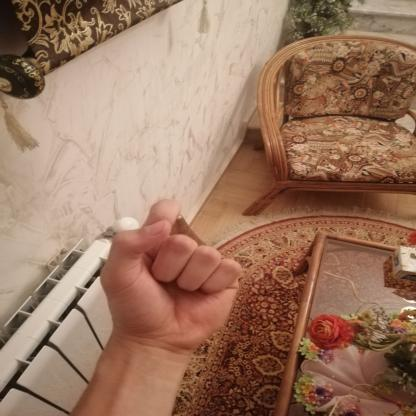FAA: (83, 190, 262, 363)
